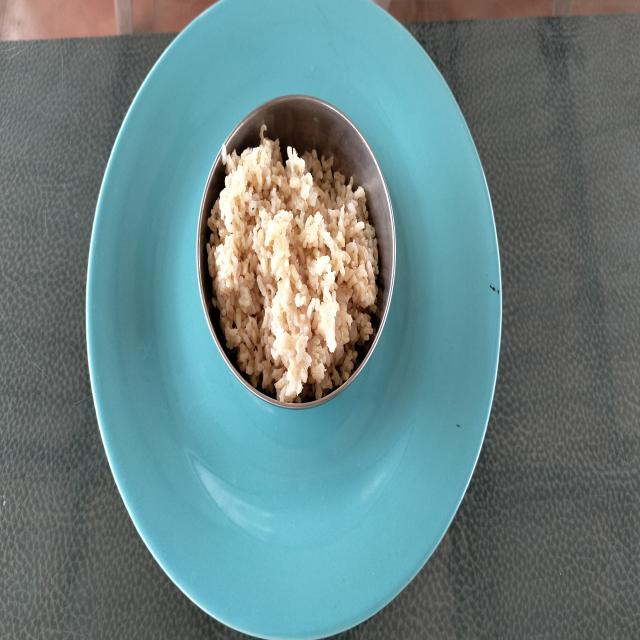brown-rice: (208, 135, 378, 403)
